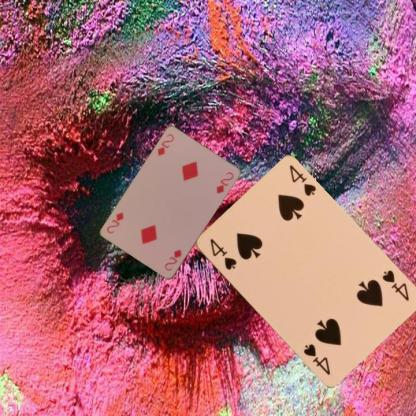2d: (154, 131, 176, 158), (162, 247, 183, 272)
4s: (379, 267, 410, 303), (207, 236, 237, 271)
